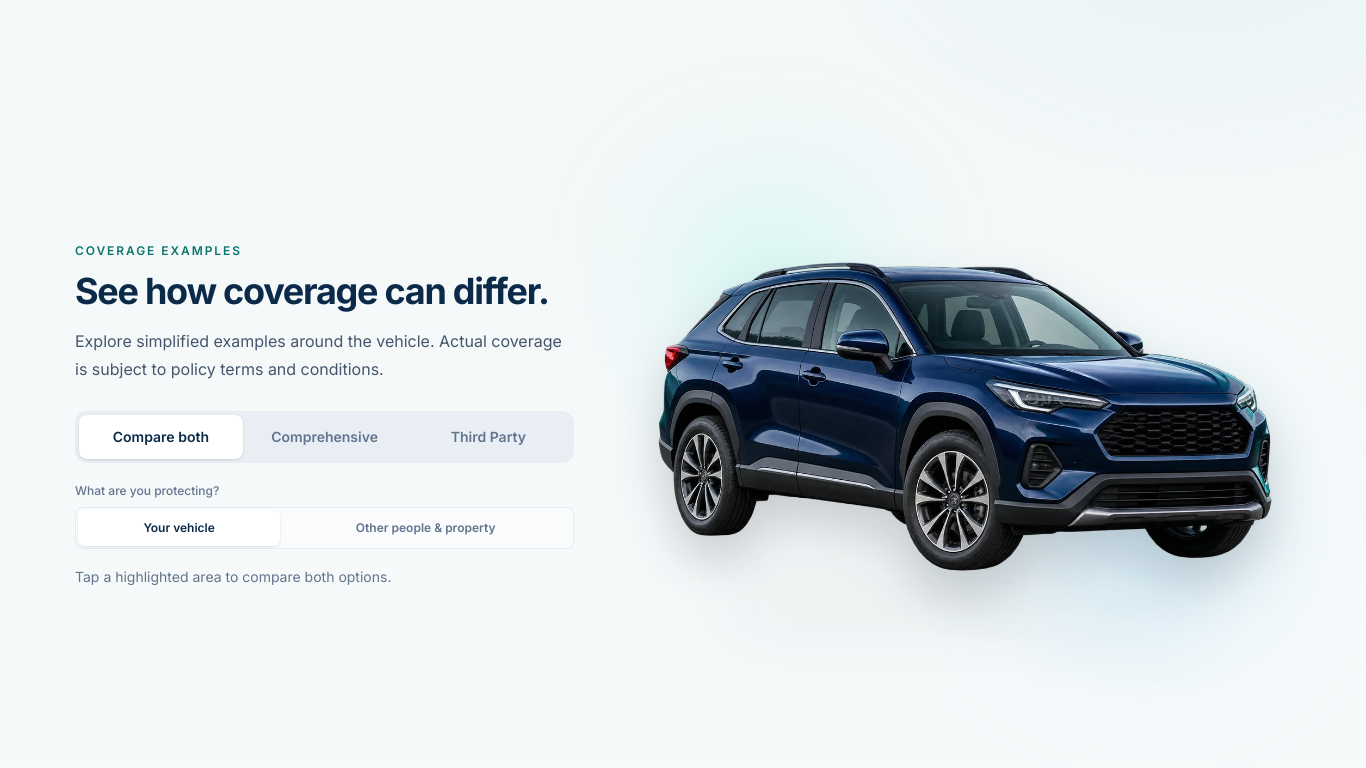
combined hero and coverage story › keeps Comprehensive as a focused single-mode exploration
(page scrolled)
Click the button "Comprehensive". click: (325, 438)
box: 243,416 -> 406,460
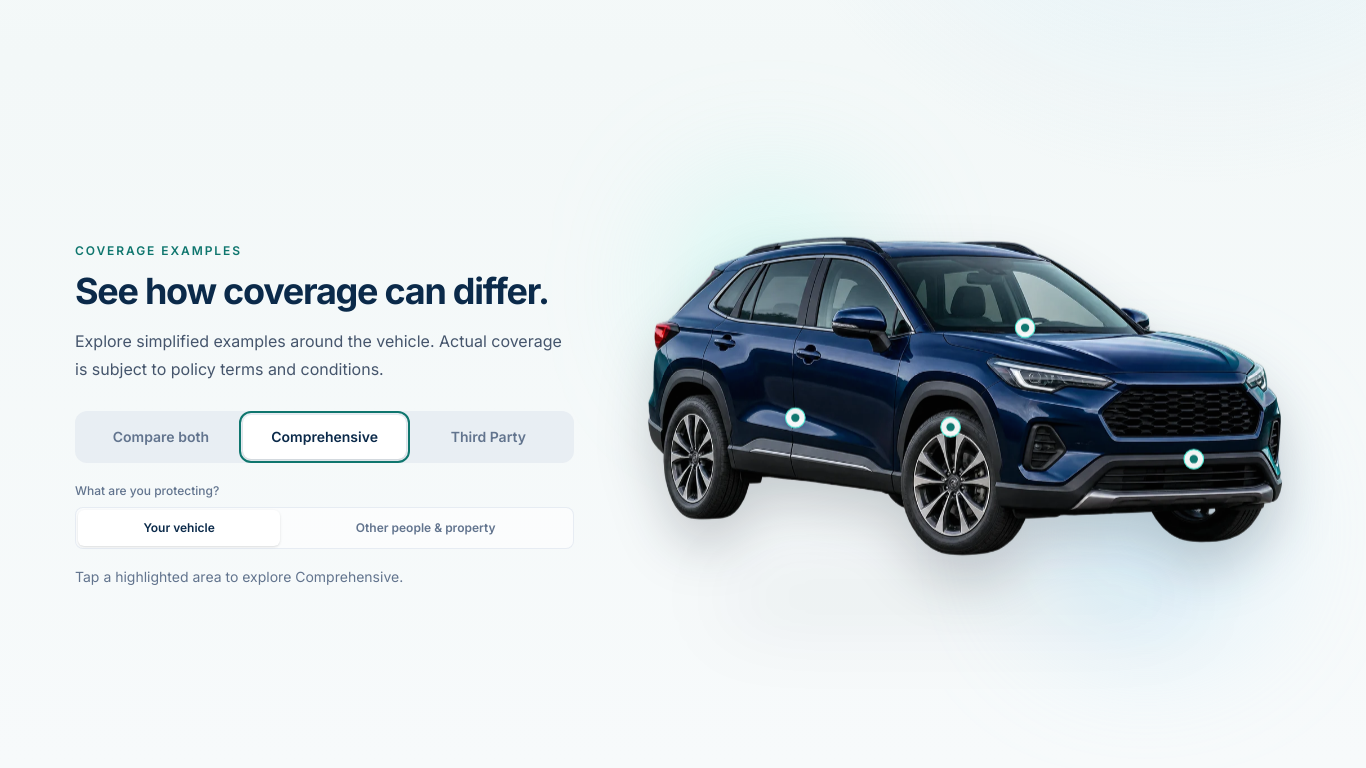
Focus the button named "Show Rear body Comprehensive coverage example". click: (796, 418)
box: 773,396 -> 818,441
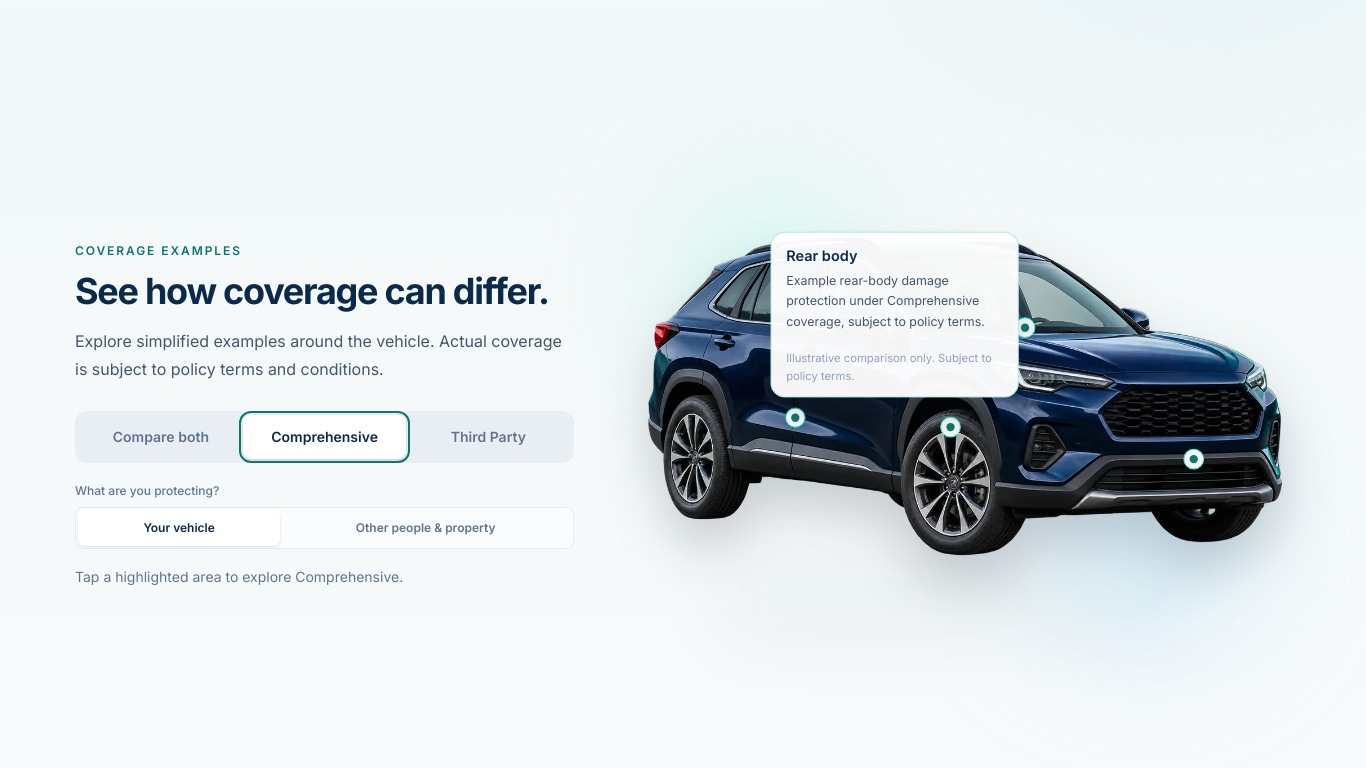
Check: the tooltip shows "Example rear-body damage protection", box 786,273 -> 985,330
